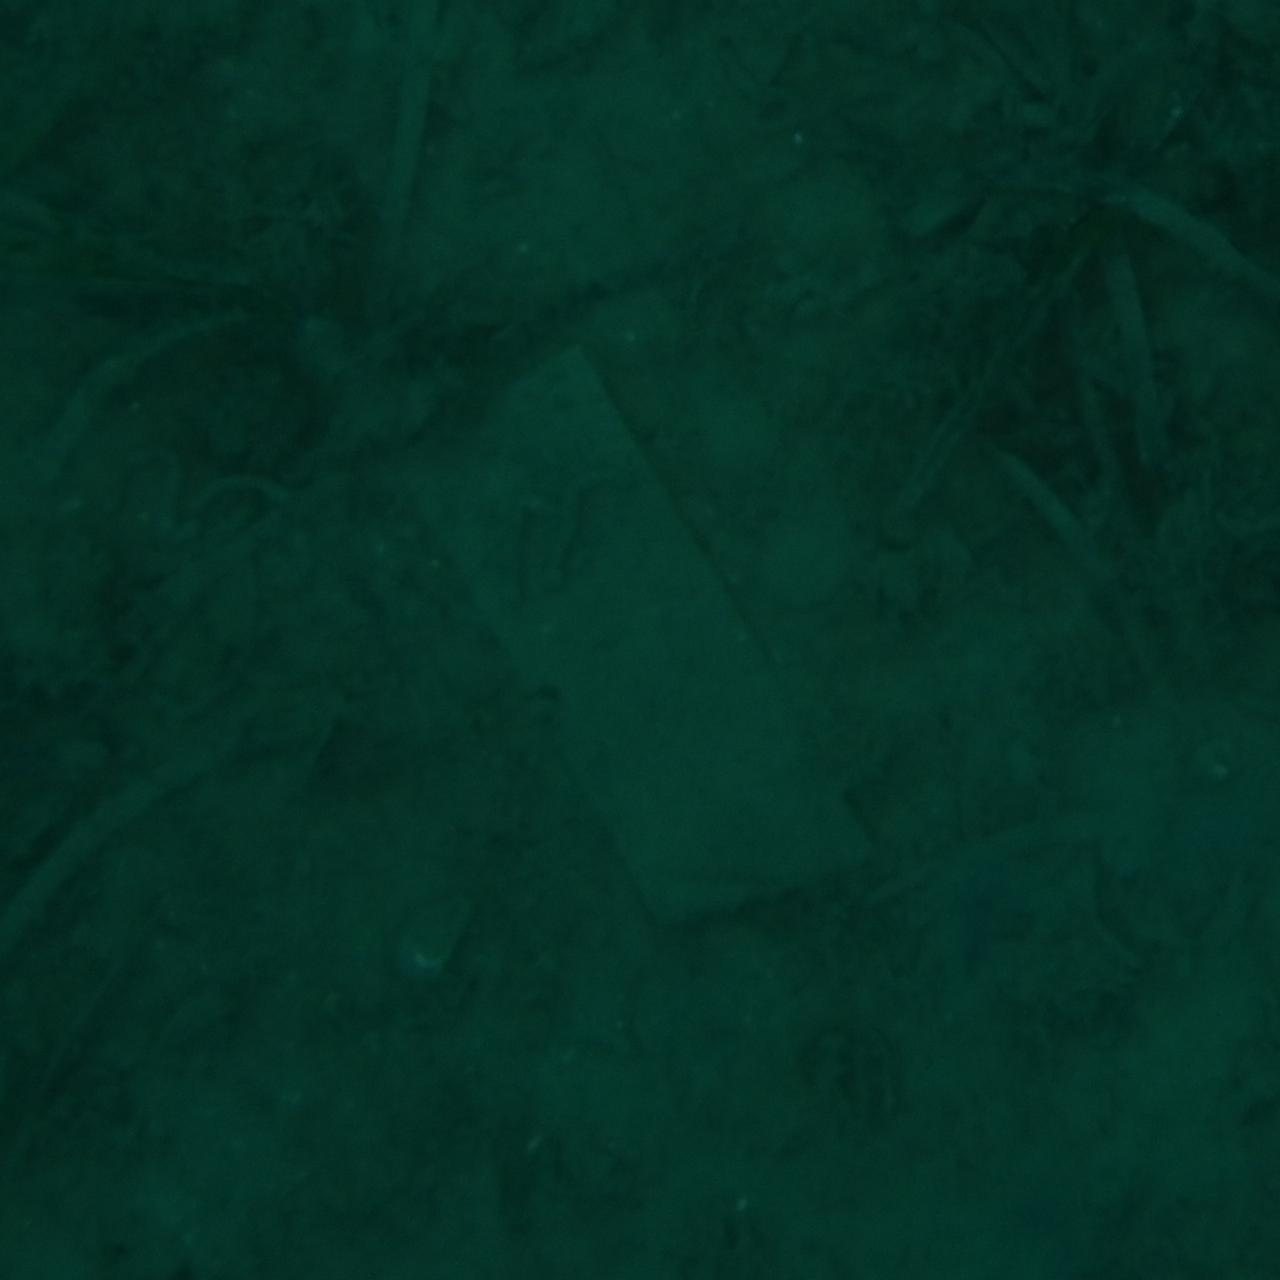Rifiuto: (397, 358, 883, 922)
